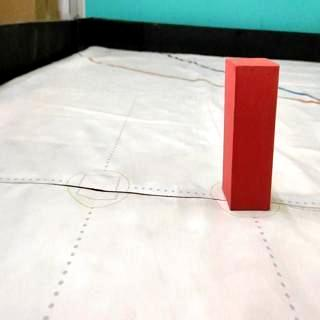redbox: (224, 56, 278, 210)
